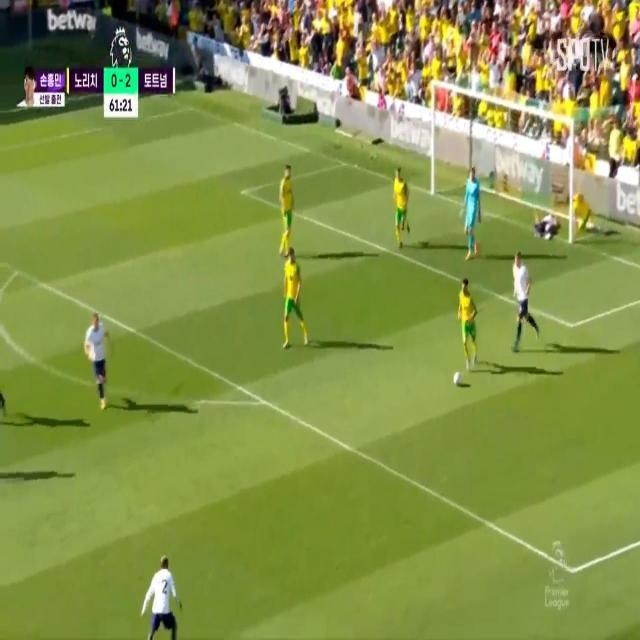ball: (452, 372, 464, 386)
goalkeeper: (459, 158, 488, 269)
player: (282, 243, 308, 345), (507, 251, 535, 339), (149, 564, 175, 640), (386, 161, 408, 242), (458, 276, 476, 368), (277, 155, 293, 256), (88, 318, 107, 377)
